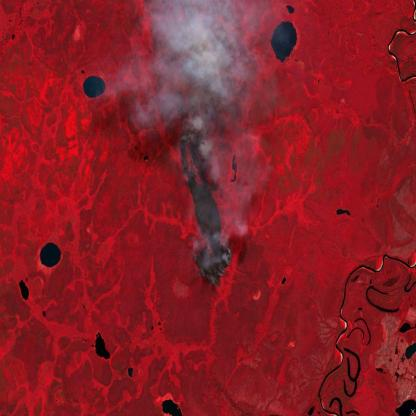fire: (173, 124, 237, 291)
